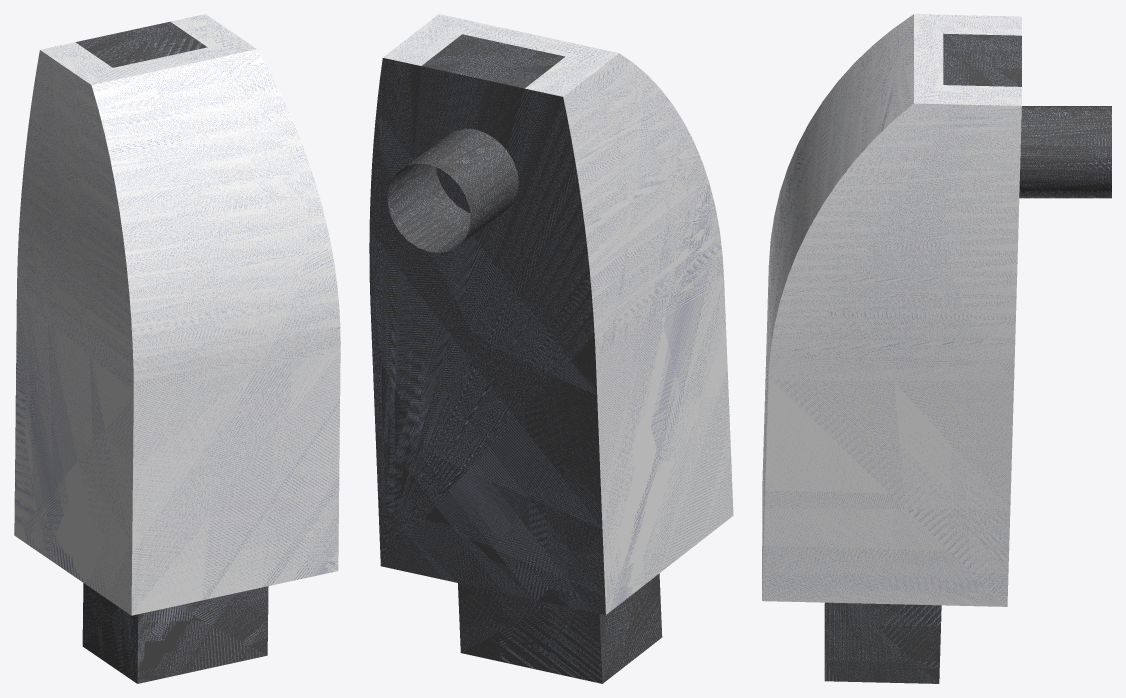
The model's file is LB-up-leg-aibo-ers7.dae.
3 views of the same model, side by side, from view 1: azimuth 30°, elevation 25°; view 2: azimuth 150°, elevation 25°; view 3: azimuth 270°, elevation 25° (orthographic). The views are drawn at different scales.
Parts seen in each view (by area): view 1: Component_3 (×3); view 2: Component_3 (×4); view 3: Component_3 (×4).
Boxes of the visible parts, bbox=[...] form: Component_3 (×3): bbox=[14, 14, 340, 683]; Component_3 (×4): bbox=[369, 14, 733, 683]; Component_3 (×4): bbox=[762, 14, 1111, 683].
Bounding box in the file's own units: 10.95 × 14.87 × 28.21.
